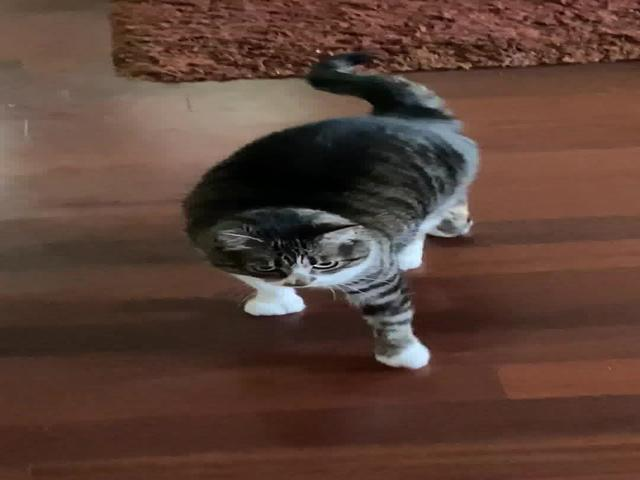playdoh: (178, 51, 481, 368)
